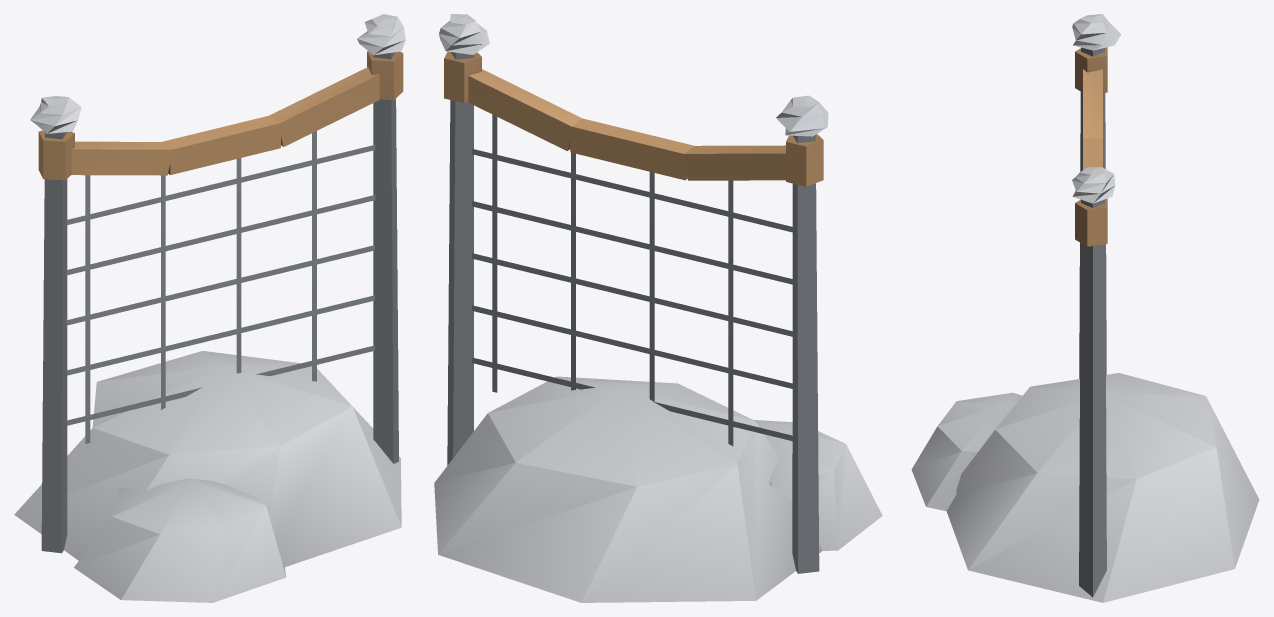
File: net.lod1.glb
The picture shows the model from 3 angles, left to right: view 1: azimuth 30°, elevation 25°; view 2: azimuth 150°, elevation 25°; view 3: azimuth 270°, elevation 25°; orthographic projection. The views are drawn at different scales.
Size of the model in its own units: 2.02 by 2.33 by 1.73.
